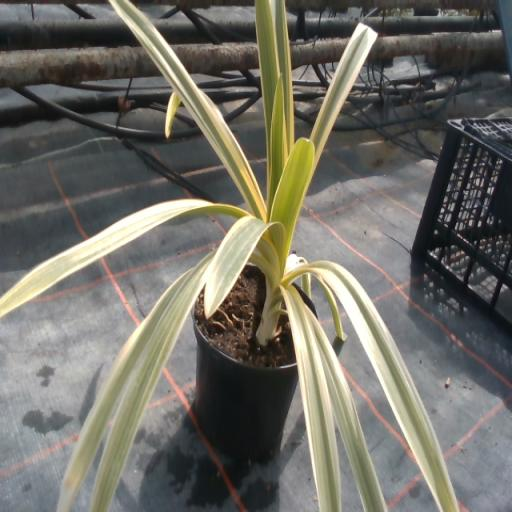Agapanthus-praecox: (321, 262, 458, 511), (110, 0, 266, 218), (0, 199, 247, 317), (91, 263, 206, 511), (310, 319, 384, 511), (285, 290, 340, 511), (311, 23, 376, 171), (205, 217, 283, 314), (270, 139, 313, 256), (255, 0, 278, 156), (270, 0, 294, 147), (267, 77, 287, 206), (165, 93, 180, 138)
